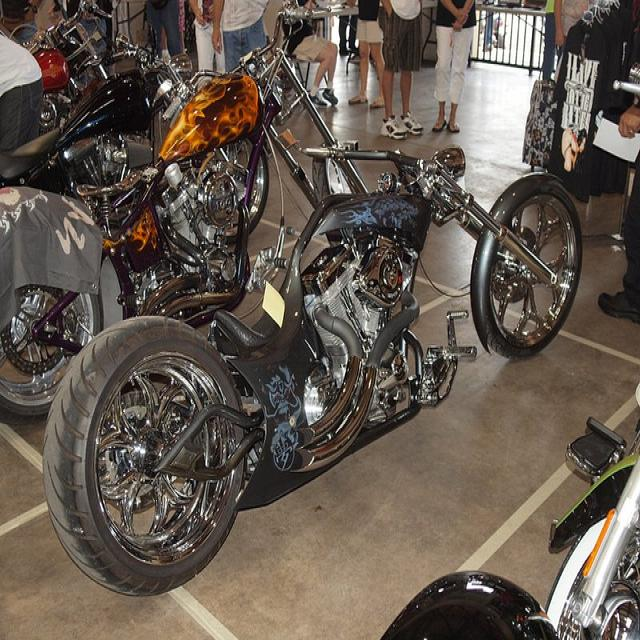motor: (57, 150, 587, 593), (0, 4, 365, 426), (374, 421, 639, 632), (0, 37, 192, 198), (23, 0, 119, 136)
